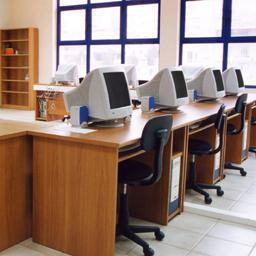Ventana: (57, 3, 160, 78), (182, 3, 255, 86)
